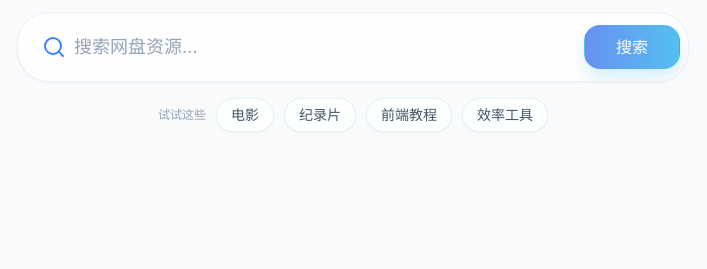
Test case: SearchBox › navigates to the standalone results page after selecting a history item on the homepage
Click the field with placeholder "搜索网盘资源...".
click(353, 47)  # box [18,13,688,81]
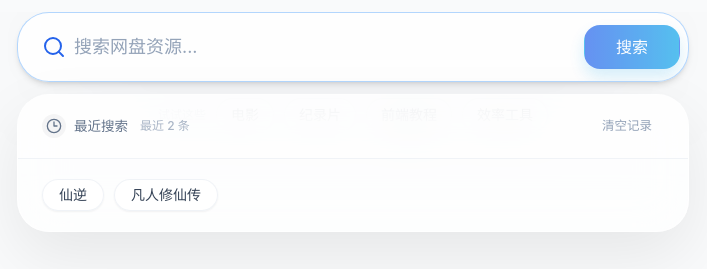
Click the button with aria-label "使用历史记录搜索 仙逆".
click(73, 195)  # box [42,179,104,211]
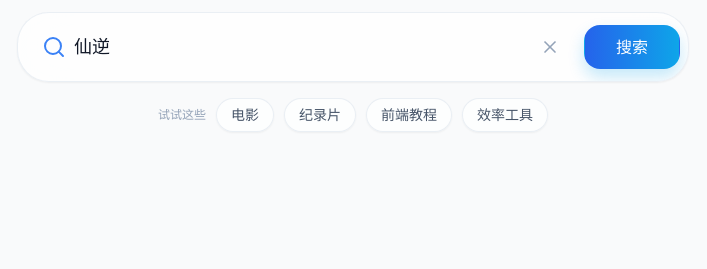
Now the text "最近搜索" is gone
